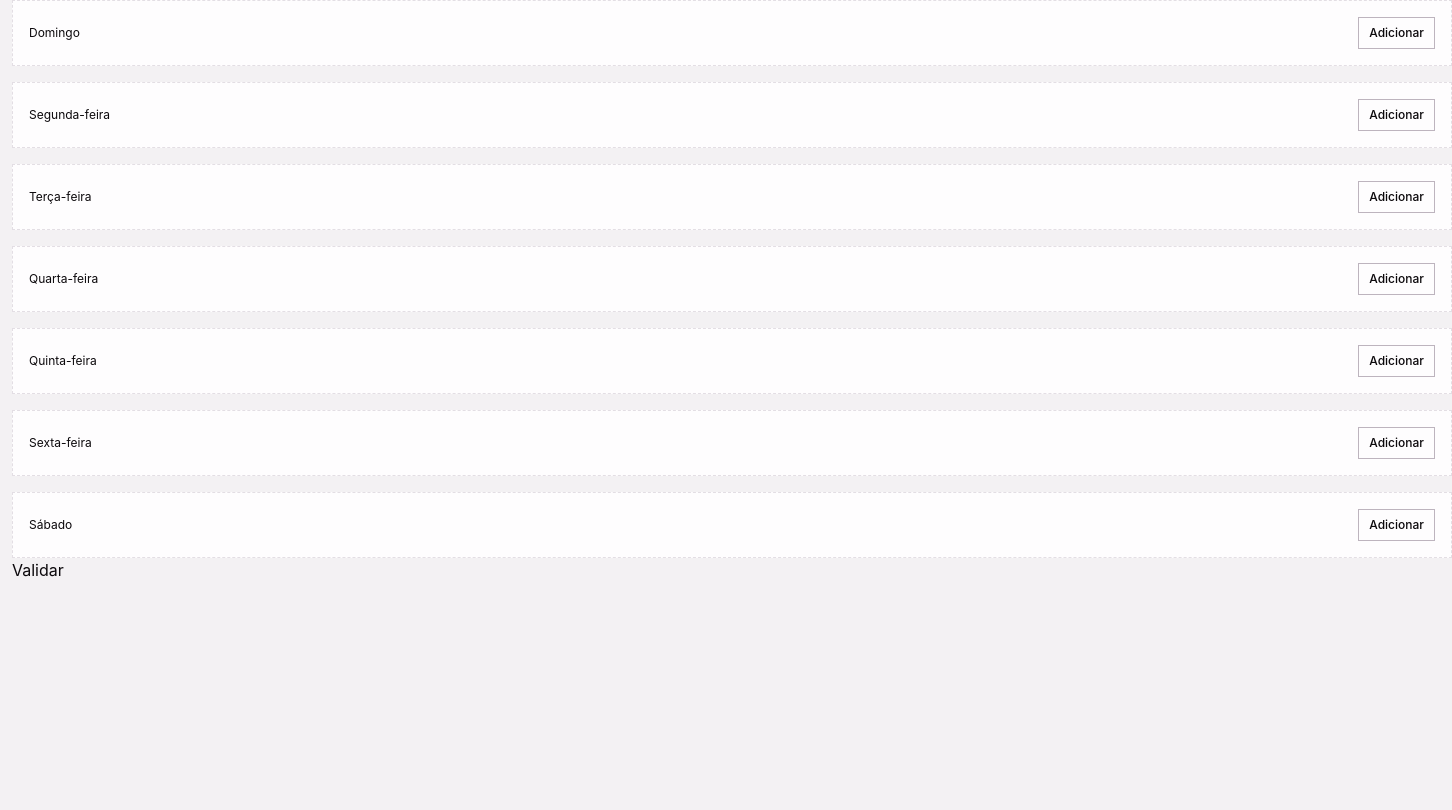
Test: WeeklyScheduleEditor (T33, spec.md SCH-02/SCH-03/SCH-08) › adding a window via a weekday group's "Adicionar" button appends an empty HH:mm row under that weekday
Click the button "Adicionar" in the row of "Terça-feira".
click(1397, 197)  # box 1358,181 -> 1435,213
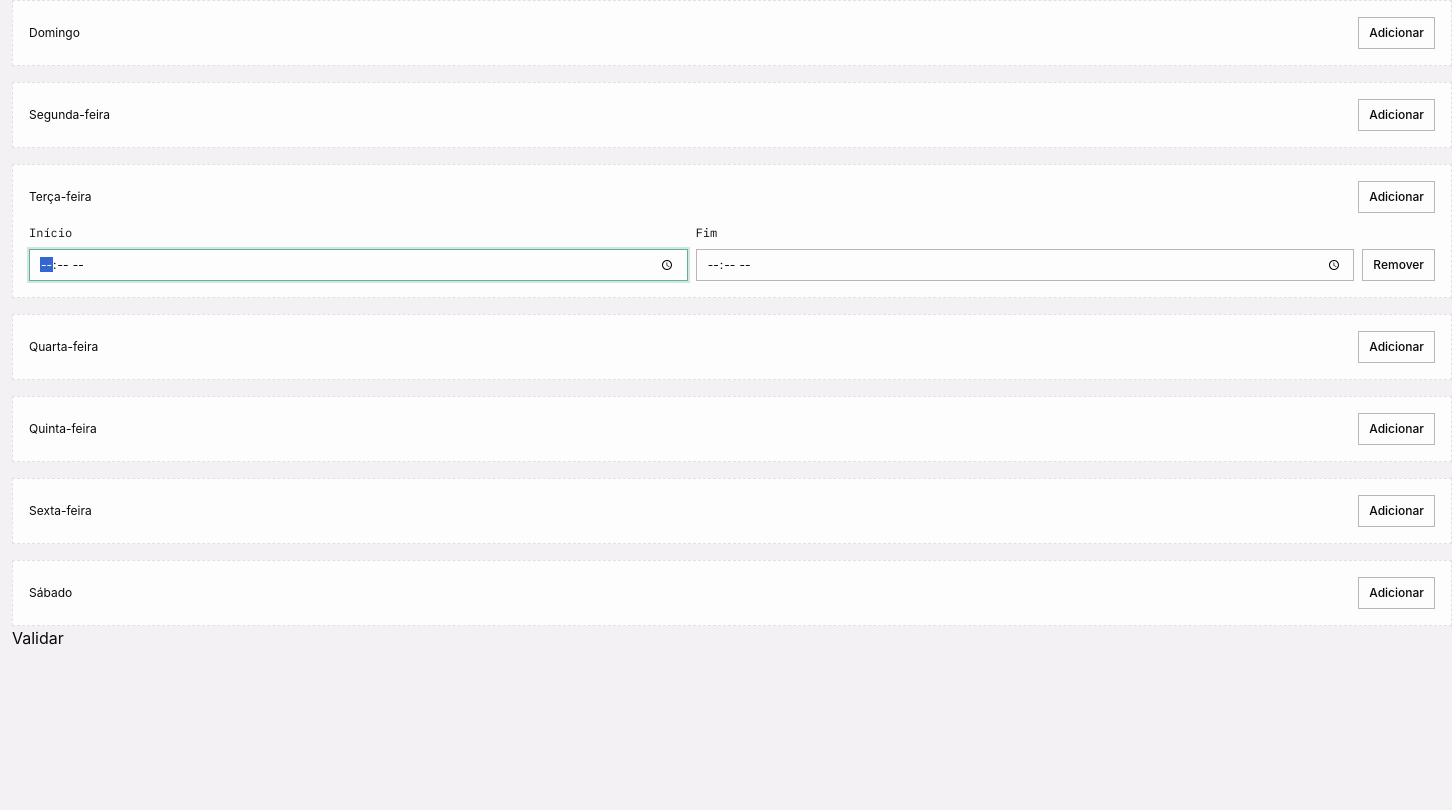
Check: the number of time fields labelled "Início" is 1, box 29,249 -> 688,281
Check: the time field labelled "Início" is empty, box 29,249 -> 688,281
Check: the time field labelled "Fim" is empty, box 696,249 -> 1354,281
